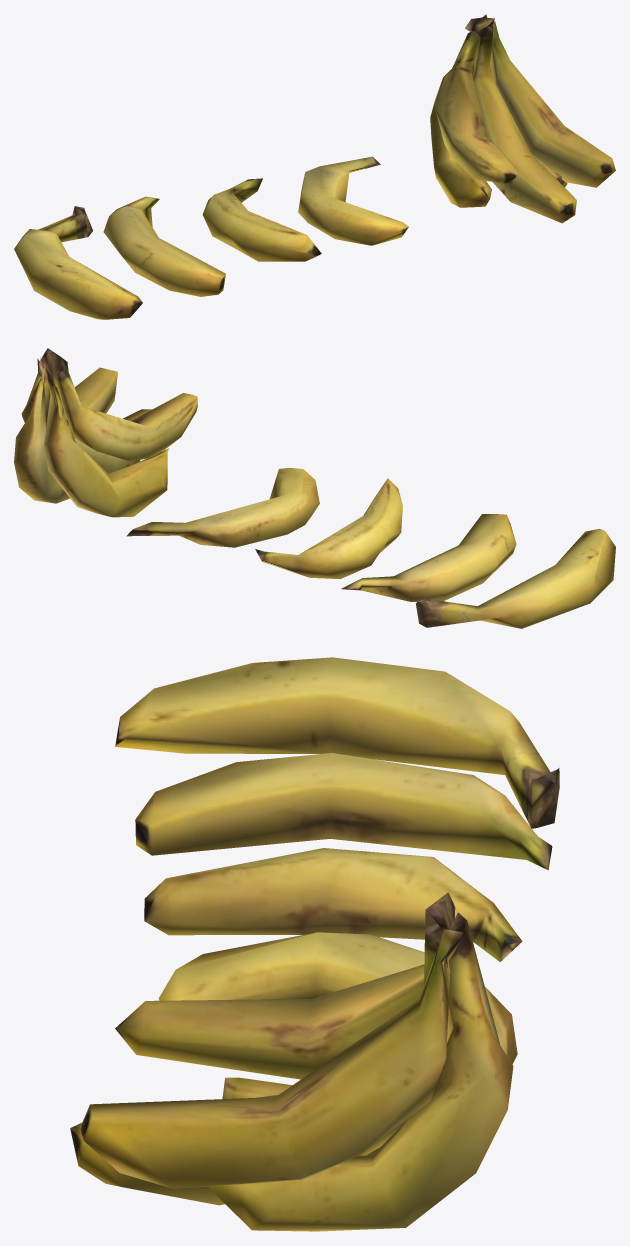
Rendered from bananas.glb.
3 views of the same model, one above another, from view 1: azimuth 30°, elevation 25°; view 2: azimuth 150°, elevation 25°; view 3: azimuth 270°, elevation 25° (orthographic). The views are drawn at different scales.
Visible parts, largest first — view 1: bananas_bunch, bananas_d, bananas_c, bananas_a, bananas_b; view 2: bananas_bunch, bananas_d, bananas_c, bananas_a, bananas_b; view 3: bananas_bunch, bananas_d, bananas_c, bananas_b, bananas_a.
Part boxes in pixels (bbox=[...]): bananas_bunch: bbox=[430, 14, 615, 223]; bananas_d: bbox=[14, 206, 142, 319]; bananas_c: bbox=[103, 196, 225, 296]; bananas_a: bbox=[298, 156, 408, 245]; bananas_b: bbox=[202, 178, 321, 261]; bananas_bunch: bbox=[14, 348, 197, 517]; bananas_d: bbox=[416, 529, 615, 628]; bananas_c: bbox=[341, 514, 516, 601]; bananas_a: bbox=[126, 468, 319, 547]; bananas_b: bbox=[255, 478, 402, 578]; bananas_bunch: bbox=[70, 892, 517, 1231]; bananas_d: bbox=[115, 657, 559, 828]; bananas_c: bbox=[135, 753, 552, 870]; bananas_b: bbox=[144, 848, 522, 961]; bananas_a: bbox=[158, 932, 424, 1000].
Bounding box in the file's own units: 0.5966 × 0.1732 × 0.2406.
Materials: 1 (1 with a texture image).
